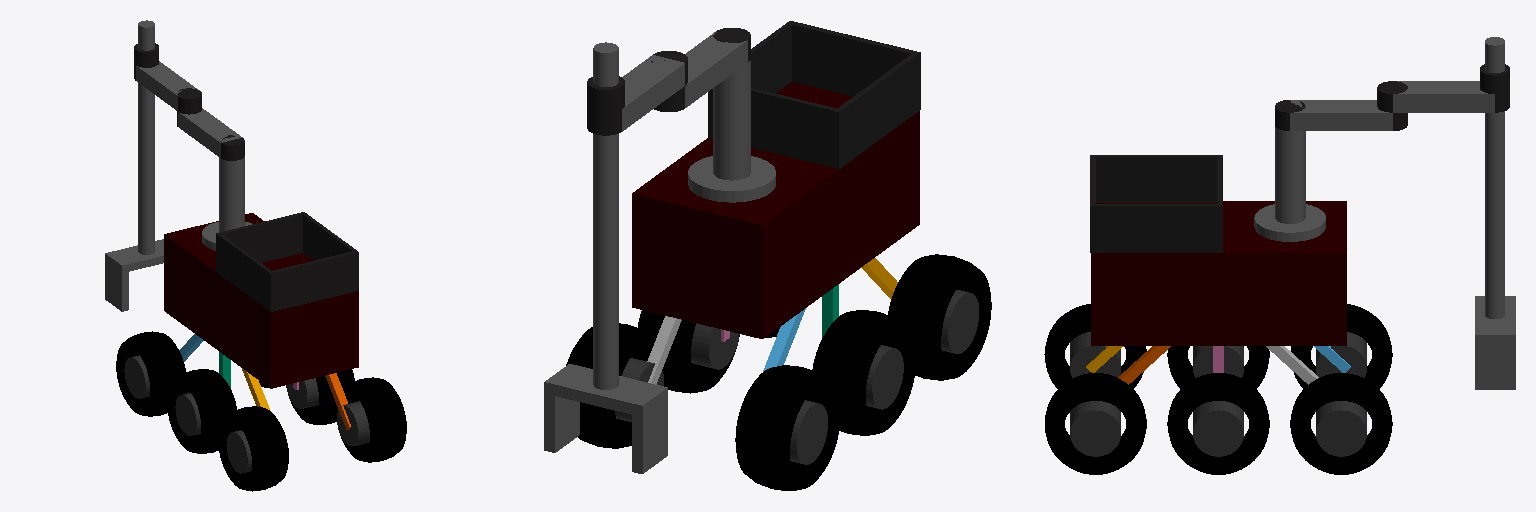
--- Facts derived from the render (not from the file) ---
3 views of the same robot in one strip: view 1: azimuth 30°, elevation 25°; view 2: azimuth 150°, elevation 25°; view 3: azimuth 270°, elevation 25° (orthographic).
Robot: unnamed — 38 links, 37 joints (3 revolute, 6 continuous, 3 prismatic, 25 fixed); root link base_footprint; default pose: every joint at zero.
Visible links, largest first — view 1: base_link, Rueda_I1_link, Rueda_D1_link, Rueda_i3_link, Rueda_I2_link, pared_trasera_link, Cilindro_verti_5_link, pared_delantera_link, pared_i_link, Cilindro_verti_1_link, pared_d_link, horizontal1_link (+11 smaller); view 2: base_link, Rueda_i3_link, Cilindro_verti_5_link, Rueda_I1_link, Rueda_I2_link, pared_trasera_link, pared_i_link, pared_delantera_link, Cilindro_verti_1_link, Rueda_D3_link, grip_link, horizontal2_link (+18 smaller); view 3: base_link, pared_d_link, pared_i_link, Rueda_D1_link, Rueda_D2_link, Rueda_D3_link, Cilindro_verti_5_link, horizontal2_link, horizontal1_link, Cilindro_verti_1_link, Cilindro_D2_link, Cilindro_D3_link (+15 smaller).
Boxes of the visible links, bbox=[...] form: base_link: bbox=[164, 213, 358, 388]; Rueda_I1_link: bbox=[218, 406, 288, 491]; Rueda_D1_link: bbox=[336, 377, 406, 462]; Rueda_i3_link: bbox=[116, 331, 185, 416]; Rueda_I2_link: bbox=[167, 369, 236, 453]; pared_trasera_link: bbox=[273, 251, 355, 310]; Cilindro_verti_5_link: bbox=[138, 20, 154, 254]; pared_delantera_link: bbox=[220, 213, 302, 262]; pared_i_link: bbox=[216, 232, 274, 311]; Cilindro_verti_1_link: bbox=[219, 156, 244, 231]; pared_d_link: bbox=[301, 212, 358, 290]; horizontal1_link: bbox=[178, 108, 242, 157]; base_link: bbox=[632, 82, 919, 338]; Rueda_i3_link: bbox=[735, 365, 839, 490]; Cilindro_verti_5_link: bbox=[593, 42, 618, 389]; Rueda_I1_link: bbox=[888, 254, 991, 380]; Rueda_I2_link: bbox=[812, 310, 915, 435]; pared_trasera_link: bbox=[792, 22, 914, 96]; pared_i_link: bbox=[834, 51, 920, 168]; pared_delantera_link: bbox=[751, 88, 836, 167]; Cilindro_verti_1_link: bbox=[713, 60, 750, 180]; Rueda_D3_link: bbox=[566, 323, 665, 448]; grip_link: bbox=[544, 364, 667, 416]; horizontal2_link: bbox=[622, 55, 684, 131]; base_link: bbox=[1091, 201, 1346, 345]; pared_d_link: bbox=[1090, 204, 1222, 252]; pared_i_link: bbox=[1090, 155, 1222, 202]; Rueda_D1_link: bbox=[1045, 373, 1146, 474]; Rueda_D2_link: bbox=[1167, 373, 1269, 474]; Rueda_D3_link: bbox=[1290, 373, 1392, 474]; Cilindro_verti_5_link: bbox=[1485, 37, 1504, 318]; horizontal2_link: bbox=[1393, 81, 1494, 112]; horizontal1_link: bbox=[1290, 100, 1392, 130]; Cilindro_verti_1_link: bbox=[1275, 127, 1305, 223]; Cilindro_D2_link: bbox=[1193, 401, 1243, 456]; Cilindro_D3_link: bbox=[1316, 401, 1366, 456].
Bounding box of the posed robot: 2.1 × 4.6 × 4.25 m (x, y, z).
Meshes: 27 distinct files referenced, 27 mesh visuals loaded (27 Collada DAE).

URDF robot description (unnamed):
<robot name="unnamed" version="1.0">
  <joint name="00_base_b_link_joint" type="fixed">
    <origin rpy="-0.00000 1.57080 0.00000" xyz="0.00000 0.70000 0.55000"/>
    <parent link="base_link"/>
    <child link="base_b_link"/>
  </joint>
  <joint name="01_Cilindro_verti_1_link_joint" type="fixed">
    <origin rpy="0.00000 -1.57080 0.00000" xyz="-0.55000 -0.00000 0.00000"/>
    <parent link="base_b_link"/>
    <child link="Cilindro_verti_1_link"/>
  </joint>
  <joint name="02_Cilindro_link_joint" type="revolute">
    <limit lower="-6.28000" upper="6.28000" effort="25.00000" velocity="0.00000"/>
    <origin rpy="0.00000 0.00000 0.00000" xyz="0.00000 -0.00000 0.60000"/>
    <parent link="Cilindro_verti_1_link"/>
    <child link="Cilindro_link"/>
    <axis xyz="0.00000 0.00000 1.00000"/>
  </joint>
  <joint name="03_horizontal1_link_joint" type="fixed">
    <origin rpy="0.00000 0.00000 0.00000" xyz="-0.00000 0.50000 0.00000"/>
    <parent link="Cilindro_link"/>
    <child link="horizontal1_link"/>
  </joint>
  <joint name="04_Cilindro_verti_3_link_joint" type="revolute">
    <limit lower="-2.15000" upper="2.15000" effort="25.00000" velocity="0.00000"/>
    <origin rpy="0.00000 0.00000 0.00000" xyz="0.00000 0.50000 0.10000"/>
    <parent link="horizontal1_link"/>
    <child link="Cilindro_verti_3_link"/>
    <axis xyz="0.00000 0.00000 1.00000"/>
  </joint>
  <joint name="05_horizontal2_link_joint" type="fixed">
    <origin rpy="0.00000 0.00000 0.00000" xyz="-0.00000 0.50000 0.10000"/>
    <parent link="Cilindro_verti_3_link"/>
    <child link="horizontal2_link"/>
  </joint>
  <joint name="06_Cilindro_verti_4_link_joint" type="fixed">
    <origin rpy="0.00000 0.00000 0.00000" xyz="0.00000 0.50000 0.10000"/>
    <parent link="horizontal2_link"/>
    <child link="Cilindro_verti_4_link"/>
  </joint>
  <joint name="07_Cilindro_verti_5_link_joint" type="prismatic">
    <limit lower="-2.00000" upper="2.50000" effort="25.00000" velocity="0.00000"/>
    <origin rpy="0.00000 0.00000 0.00000" xyz="0.00000 -0.01000 -1.00000"/>
    <parent link="Cilindro_verti_4_link"/>
    <child link="Cilindro_verti_5_link"/>
    <axis xyz="0.00000 0.00000 1.00000"/>
  </joint>
  <joint name="08_grip_link_joint" type="revolute">
    <limit lower="-1.57000" upper="1.57000" effort="25.00000" velocity="5.00000"/>
    <origin rpy="0.00000 0.00000 0.00000" xyz="-0.00000 0.01000 -1.50000"/>
    <parent link="Cilindro_verti_5_link"/>
    <child link="grip_link"/>
    <axis xyz="0.00000 0.00000 1.00000"/>
  </joint>
  <joint name="09_grip_d_link_joint" type="prismatic">
    <limit lower="-0.11000" upper="0.00000" effort="25.00000" velocity="5.00000"/>
    <origin rpy="0.00000 1.57080 0.00000" xyz="0.40000 0.00000 -0.30000"/>
    <parent link="grip_link"/>
    <child link="grip_d_link"/>
    <axis xyz="0.00000 0.00000 1.00000"/>
  </joint>
  <joint name="09_grip_i_link_joint" type="prismatic">
    <limit lower="-0.11000" upper="0.00000" effort="25.00000" velocity="0.00000"/>
    <origin rpy="0.00000 -1.57080 0.00000" xyz="-0.40000 0.00000 -0.30000"/>
    <parent link="grip_link"/>
    <child link="grip_i_link"/>
    <axis xyz="0.00000 0.00000 1.00000"/>
  </joint>
  <joint name="Camara_frontal_link_joint" type="fixed">
    <origin rpy="0.00000 0.00000 0.00000" xyz="0.00000 1.35000 0.50000"/>
    <parent link="base_link"/>
    <child link="Camara_frontal_link"/>
  </joint>
  <joint name="Camara_grip_link_joint" type="fixed">
    <origin rpy="0.00000 0.00000 0.00000" xyz="0.00000 2.70000 -0.55000"/>
    <parent link="base_link"/>
    <child link="Camara_grip_link"/>
  </joint>
  <joint name="Cilindro_D1_link_joint" type="fixed">
    <origin rpy="1.57080 0.78540 -1.57080" xyz="0.25000 0.03536 -0.60104"/>
    <parent link="Cubo_d1_link"/>
    <child link="Cilindro_D1_link"/>
  </joint>
  <joint name="Cilindro_D2_link_joint" type="fixed">
    <origin rpy="1.57080 0.00000 -1.57080" xyz="0.25000 0.00000 -0.55000"/>
    <parent link="Cubo_d2_link"/>
    <child link="Cilindro_D2_link"/>
  </joint>
  <joint name="Cilindro_D3_link_joint" type="fixed">
    <origin rpy="1.57080 -0.78540 -1.57080" xyz="0.25000 -0.03536 -0.60104"/>
    <parent link="Cubo_d3_link"/>
    <child link="Cilindro_D3_link"/>
  </joint>
  <joint name="Cilindro_i1_link_joint" type="fixed">
    <origin rpy="1.57080 -0.78540 1.57080" xyz="-0.25000 0.03536 -0.60104"/>
    <parent link="Cubo_i1_link"/>
    <child link="Cilindro_i1_link"/>
  </joint>
  <joint name="Cilindro_i2_link_joint" type="fixed">
    <origin rpy="1.57080 -0.00000 1.57080" xyz="-0.25000 0.00000 -0.55000"/>
    <parent link="Cubo_i3_link"/>
    <child link="Cilindro_i2_link"/>
  </joint>
  <joint name="Cilindro_i3_link_joint" type="fixed">
    <origin rpy="1.57080 0.78540 1.57080" xyz="-0.25000 -0.03536 -0.60104"/>
    <parent link="Cubo_i2_link"/>
    <child link="Cilindro_i3_link"/>
  </joint>
  <joint name="Cubo_d1_link_joint" type="fixed">
    <origin rpy="-0.78540 0.00000 0.00000" xyz="0.50000 -0.80000 -0.80000"/>
    <parent link="base_link"/>
    <child link="Cubo_d1_link"/>
  </joint>
  <joint name="Cubo_d2_link_joint" type="fixed">
    <origin rpy="0.78540 0.00000 0.00000" xyz="0.50000 0.80000 -0.80000"/>
    <parent link="base_link"/>
    <child link="Cubo_d3_link"/>
  </joint>
  <joint name="Cubo_d3_link_joint" type="fixed">
    <origin rpy="0.00000 0.00000 0.00000" xyz="0.50000 0.00000 -0.70000"/>
    <parent link="base_link"/>
    <child link="Cubo_d2_link"/>
  </joint>
  <joint name="Cubo_i1_link_joint" type="fixed">
    <origin rpy="-0.78540 0.00000 0.00000" xyz="-0.50000 -0.80000 -0.80000"/>
    <parent link="base_link"/>
    <child link="Cubo_i1_link"/>
  </joint>
  <joint name="Cubo_i2_link_joint" type="fixed">
    <origin rpy="0.78540 0.00000 0.00000" xyz="-0.50000 0.80000 -0.80000"/>
    <parent link="base_link"/>
    <child link="Cubo_i2_link"/>
  </joint>
  <joint name="Cubo_i3_link_joint" type="fixed">
    <origin rpy="0.00000 0.00000 0.00000" xyz="-0.50000 0.00000 -0.70000"/>
    <parent link="base_link"/>
    <child link="Cubo_i3_link"/>
  </joint>
  <joint name="Rueda_D1_link_joint" type="continuous">
    <limit lower="0" upper="0" effort="25.00000" velocity="5.00000"/>
    <origin rpy="3.14159 0.00000 3.14159" xyz="-0.00000 0.00000 -0.05000"/>
    <parent link="Cilindro_D1_link"/>
    <child link="Rueda_D1_link"/>
    <axis xyz="0.00000 0.00000 1.00000"/>
  </joint>
  <joint name="Rueda_D2_link_joint" type="continuous">
    <limit lower="0" upper="0" effort="25.00000" velocity="5.00000"/>
    <origin rpy="3.14159 0.00000 -3.14159" xyz="-0.00000 -0.00000 -0.05000"/>
    <parent link="Cilindro_D2_link"/>
    <child link="Rueda_D2_link"/>
    <axis xyz="0.00000 0.00000 1.00000"/>
  </joint>
  <joint name="Rueda_D3_link_joint" type="continuous">
    <limit lower="0" upper="0" effort="25.00000" velocity="5.00000"/>
    <origin rpy="3.14159 0.00000 3.14159" xyz="0.00000 -0.00000 -0.05000"/>
    <parent link="Cilindro_D3_link"/>
    <child link="Rueda_D3_link"/>
    <axis xyz="0.00000 0.00000 1.00000"/>
  </joint>
  <joint name="Rueda_I1_link_joint" type="continuous">
    <limit lower="0" upper="0" effort="25.00000" velocity="5.00000"/>
    <origin rpy="3.14159 -0.00000 -3.14159" xyz="0.00000 -0.00000 -0.05000"/>
    <parent link="Cilindro_i1_link"/>
    <child link="Rueda_I1_link"/>
    <axis xyz="0.00000 0.00000 1.00000"/>
  </joint>
  <joint name="Rueda_I2_link_joint" type="continuous">
    <limit lower="0" upper="0" effort="25.00000" velocity="5.00000"/>
    <origin rpy="3.14159 -0.00000 -3.14159" xyz="-0.00000 -0.00000 -0.05000"/>
    <parent link="Cilindro_i2_link"/>
    <child link="Rueda_I2_link"/>
    <axis xyz="0.00000 0.00000 1.00000"/>
  </joint>
  <joint name="Rueda_i3_link_joint" type="continuous">
    <limit lower="0" upper="0" effort="25.00000" velocity="5.00000"/>
    <origin rpy="3.14159 -0.00000 -3.14159" xyz="-0.00000 -0.00000 -0.05000"/>
    <parent link="Cilindro_i3_link"/>
    <child link="Rueda_i3_link"/>
    <axis xyz="0.00000 0.00000 1.00000"/>
  </joint>
  <joint name="Sensor_link_joint" type="fixed">
    <origin rpy="0.00000 0.00000 0.00000" xyz="0.00000 0.00000 -0.00000"/>
    <parent link="base_link"/>
    <child link="Sensor_link"/>
  </joint>
  <joint name="base_link_joint" type="fixed">
    <origin rpy="0.00000 0.00000 0.00000" xyz="0.00000 0.00000 0.00000"/>
    <parent link="base_footprint"/>
    <child link="base_link"/>
  </joint>
  <joint name="pared_d_link_joint" type="fixed">
    <origin rpy="0.00000 -1.57080 0.00000" xyz="0.57500 -0.61000 0.75000"/>
    <parent link="base_link"/>
    <child link="pared_d_link"/>
  </joint>
  <joint name="pared_delantera_link_joint" type="fixed">
    <origin rpy="1.57080 -1.57080 0.00000" xyz="0.00000 0.01000 0.75000"/>
    <parent link="base_link"/>
    <child link="pared_delantera_link"/>
  </joint>
  <joint name="pared_i_link_joint" type="fixed">
    <origin rpy="-0.00000 1.57080 0.00000" xyz="-0.57500 -0.61000 0.75000"/>
    <parent link="base_link"/>
    <child link="pared_i_link"/>
  </joint>
  <joint name="pared_trasera_link_joint" type="fixed">
    <origin rpy="-1.57080 1.57080 0.00000" xyz="0.00000 -1.23000 0.75000"/>
    <parent link="base_link"/>
    <child link="pared_trasera_link"/>
  </joint>
  <link name="Camara_frontal_link"/>
  <link name="Camara_grip_link"/>
  <link name="Cilindro_D1_link">
    <collision name="Cilindro_D1_collision">
      <origin rpy="3.14159 -0.00000 -3.14159" xyz="0.00000 0.00000 -0.00000"/>
      <geometry>
        <mesh filename="../meshes/dae/Cilindro.006.dae" scale="0.25000 0.25000 0.27500"/>
      </geometry>
    </collision>
    <inertial>
      <inertia ixx="0.00100" ixy="0.00000" ixz="0.00000" iyy="0.00100" iyz="0.00000" izz="0.00100"/>
      <origin rpy="0.00000 0.00000 0.00000" xyz="0.00000 0.00000 0.00000"/>
      <mass value="2.00000"/>
    </inertial>
    <visual name="Cilindro_D1">
      <origin rpy="3.14159 0.00000 3.14159" xyz="-0.00000 0.00000 0.00000"/>
      <material name="Material.008"/>
      <geometry>
        <mesh filename="../meshes/dae/Cilindro.006.dae" scale="0.25000 0.25000 0.27500"/>
      </geometry>
    </visual>
  </link>
  <link name="Cilindro_D2_link">
    <collision name="Cilindro_D2_collision">
      <origin rpy="3.14159 0.00000 3.14159" xyz="0.00000 -0.00000 0.00000"/>
      <geometry>
        <mesh filename="../meshes/dae/Cilindro.005.dae" scale="0.25000 0.25000 0.27500"/>
      </geometry>
    </collision>
    <inertial>
      <inertia ixx="0.00100" ixy="0.00000" ixz="-0.00000" iyy="0.00100" iyz="0.00000" izz="0.00100"/>
      <origin rpy="0.00000 0.00000 0.00000" xyz="-0.00000 0.00000 0.00000"/>
      <mass value="2.00000"/>
    </inertial>
    <visual name="Cilindro_D2">
      <origin rpy="3.14159 0.00000 -3.14159" xyz="-0.00000 -0.00000 0.00000"/>
      <material name="Material.008"/>
      <geometry>
        <mesh filename="../meshes/dae/Cilindro.005.dae" scale="0.25000 0.25000 0.27500"/>
      </geometry>
    </visual>
  </link>
  <link name="Cilindro_D3_link">
    <collision name="Cilindro_D3_collision">
      <origin rpy="3.14159 -0.00000 -3.14159" xyz="-0.00000 0.00000 -0.00000"/>
      <geometry>
        <mesh filename="../meshes/dae/Cilindro.001.dae" scale="0.25000 0.25000 0.27500"/>
      </geometry>
    </collision>
    <inertial>
      <inertia ixx="0.00100" ixy="0.00000" ixz="0.00000" iyy="0.00100" iyz="0.00000" izz="0.00100"/>
      <origin rpy="0.00000 0.00000 0.00000" xyz="-0.00000 0.00000 0.00000"/>
      <mass value="2.00000"/>
    </inertial>
    <visual name="Cilindro_D3">
      <origin rpy="3.14159 0.00000 3.14159" xyz="-0.00000 0.00000 0.00000"/>
      <material name="Material.008"/>
      <geometry>
        <mesh filename="../meshes/dae/Cilindro.001.dae" scale="0.25000 0.25000 0.27500"/>
      </geometry>
    </visual>
  </link>
  <link name="Cilindro_i1_link">
    <collision name="Cilindro_i1_collision">
      <origin rpy="-0.00000 -0.00000 -0.00000" xyz="-0.00000 -0.00000 -0.00000"/>
      <geometry>
        <mesh filename="../meshes/dae/Cilindro.004.dae" scale="0.25000 0.25000 0.27500"/>
      </geometry>
    </collision>
    <inertial>
      <inertia ixx="0.00100" ixy="-0.00000" ixz="-0.00000" iyy="0.00100" iyz="-0.00000" izz="0.00100"/>
      <origin rpy="0.00000 0.00000 0.00000" xyz="0.00000 0.00000 0.00000"/>
      <mass value="2.00000"/>
    </inertial>
    <visual name="Cilindro_i1">
      <origin rpy="0.00000 0.00000 -0.00000" xyz="-0.00000 0.00000 -0.00000"/>
      <material name="Material.008"/>
      <geometry>
        <mesh filename="../meshes/dae/Cilindro.004.dae" scale="0.25000 0.25000 0.27500"/>
      </geometry>
    </visual>
  </link>
  <link name="Cilindro_i2_link">
    <collision name="Cilindro_i2_collision">
      <origin rpy="0.00000 0.00000 -0.00000" xyz="-0.00000 -0.00000 0.00000"/>
      <geometry>
        <mesh filename="../meshes/dae/Cilindro.002.dae" scale="0.25000 0.25000 0.27500"/>
      </geometry>
    </collision>
    <inertial>
      <inertia ixx="0.00100" ixy="-0.00000" ixz="0.00000" iyy="0.00100" iyz="0.00000" izz="0.00100"/>
      <origin rpy="0.00000 0.00000 0.00000" xyz="-0.00000 0.00000 0.00000"/>
      <mass value="2.00000"/>
    </inertial>
    <visual name="Cilindro_i2">
      <origin rpy="0.00000 0.00000 0.00000" xyz="-0.00000 -0.00000 0.00000"/>
      <material name="Material.008"/>
      <geometry>
        <mesh filename="../meshes/dae/Cilindro.002.dae" scale="0.25000 0.25000 0.27500"/>
      </geometry>
    </visual>
  </link>
  <link name="Cilindro_i3_link">
    <collision name="Cilindro_i3_collision">
      <origin rpy="0.00000 0.00000 0.00000" xyz="0.00000 0.00000 -0.00000"/>
      <geometry>
        <mesh filename="../meshes/dae/Cilindro.003.dae" scale="0.25000 0.25000 0.27500"/>
      </geometry>
    </collision>
    <inertial>
      <inertia ixx="0.00100" ixy="-0.00000" ixz="-0.00000" iyy="0.00100" iyz="0.00000" izz="0.00100"/>
      <origin rpy="0.00000 0.00000 0.00000" xyz="0.00000 0.00000 0.00000"/>
      <mass value="2.00000"/>
    </inertial>
    <visual name="Cilindro_i3">
      <origin rpy="-0.00000 -0.00000 0.00000" xyz="0.00000 0.00000 0.00000"/>
      <material name="Material.008"/>
      <geometry>
        <mesh filename="../meshes/dae/Cilindro.003.dae" scale="0.25000 0.25000 0.27500"/>
      </geometry>
    </visual>
  </link>
  <link name="Cilindro_link">
    <collision name="Cilindro_collision">
      <origin rpy="0.00000 -0.00000 0.00000" xyz="-0.00000 -0.00000 0.00000"/>
      <geometry>
        <mesh filename="../meshes/dae/Cilindro.008.dae" scale="0.15000 0.15000 0.10000"/>
      </geometry>
    </collision>
    <inertial>
      <inertia ixx="0.00223" ixy="0.00000" ixz="-0.00000" iyy="0.00223" iyz="0.00000" izz="0.00279"/>
      <origin rpy="0.00000 0.00000 0.00000" xyz="-0.00000 0.00000 -0.00000"/>
      <mass value="0.25000"/>
    </inertial>
    <visual name="Cilindro">
      <origin rpy="0.00000 0.00000 0.00000" xyz="-0.00000 -0.00000 0.00000"/>
      <material name="Material"/>
      <geometry>
        <mesh filename="../meshes/dae/Cilindro.008.dae" scale="0.15000 0.15000 0.10000"/>
      </geometry>
    </visual>
  </link>
  <link name="Cilindro_verti_1_link">
    <inertial>
      <inertia ixx="0.08892" ixy="0.00000" ixz="-0.00000" iyy="0.08892" iyz="-0.00000" izz="0.01118"/>
      <origin rpy="0.00000 0.00000 0.00000" xyz="-0.00000 0.00000 0.00000"/>
      <mass value="1.00000"/>
    </inertial>
    <visual name="Cilindro_verti_1">
      <origin rpy="0.00000 0.00000 0.00000" xyz="-0.00000 -0.00000 -0.00000"/>
      <material name="Material.001"/>
      <geometry>
        <mesh filename="../meshes/dae/Cilindro.007.dae" scale="0.15000 0.15000 0.50000"/>
      </geometry>
    </visual>
  </link>
  <link name="Cilindro_verti_3_link">
    <collision name="Cilindro_verti_3_collision">
      <origin rpy="0.00000 0.00000 0.00000" xyz="0.00000 -0.00000 -0.00000"/>
      <geometry>
        <mesh filename="../meshes/dae/Cilindro.009.dae" scale="0.15000 0.15000 0.20000"/>
      </geometry>
    </collision>
    <inertial>
      <inertia ixx="0.00946" ixy="0.00000" ixz="-0.00000" iyy="0.00946" iyz="0.00000" izz="0.00559"/>
      <origin rpy="0.00000 0.00000 0.00000" xyz="-0.00000 0.00000 -0.00000"/>
      <mass value="0.50000"/>
    </inertial>
    <visual name="Cilindro_verti_3">
      <origin rpy="0.00000 0.00000 0.00000" xyz="0.00000 -0.00000 -0.00000"/>
      <material name="Material"/>
      <geometry>
        <mesh filename="../meshes/dae/Cilindro.009.dae" scale="0.15000 0.15000 0.20000"/>
      </geometry>
    </visual>
  </link>
  <link name="Cilindro_verti_4_link">
    <collision name="Cilindro_verti_4_collision">
      <origin rpy="0.00000 0.00000 0.00000" xyz="-0.00000 -0.00000 -0.00000"/>
      <geometry>
        <mesh filename="../meshes/dae/Cilindro.010.dae" scale="0.15000 0.15000 0.20000"/>
      </geometry>
    </collision>
    <inertial>
      <inertia ixx="0.00946" ixy="0.00000" ixz="-0.00000" iyy="0.00946" iyz="0.00000" izz="0.00559"/>
      <origin rpy="0.00000 0.00000 0.00000" xyz="-0.00000 -0.00000 -0.00000"/>
      <mass value="0.50000"/>
    </inertial>
    <visual name="Cilindro_verti_4">
      <origin rpy="0.00000 0.00000 0.00000" xyz="0.00000 -0.00000 -0.00000"/>
      <material name="Material"/>
      <geometry>
        <mesh filename="../meshes/dae/Cilindro.010.dae" scale="0.15000 0.15000 0.20000"/>
      </geometry>
    </visual>
  </link>
  <link name="Cilindro_verti_5_link">
    <collision name="Cilindro_verti_5_collision">
      <origin rpy="0.00000 0.00000 0.00000" xyz="-0.00000 0.01000 -0.00000"/>
      <geometry>
        <mesh filename="../meshes/dae/Cilindro.011.dae" scale="0.10000 0.10000 1.50000"/>
      </geometry>
    </collision>
    <inertial>
      <inertia ixx="1.12873" ixy="-0.00000" ixz="0.00000" iyy="1.12873" iyz="0.00000" izz="0.00745"/>
      <origin rpy="0.00000 0.00000 0.00000" xyz="0.00000 0.01000 0.00000"/>
      <mass value="1.50000"/>
    </inertial>
    <visual name="Cilindro_verti_5">
      <origin rpy="0.00000 0.00000 0.00000" xyz="0.00000 0.01000 -0.00000"/>
      <material name="Material.001"/>
      <geometry>
        <mesh filename="../meshes/dae/Cilindro.011.dae" scale="0.10000 0.10000 1.50000"/>
      </geometry>
    </visual>
  </link>
  <link name="Cubo_d1_link">
    <collision name="Dubo_d1_collision">
      <origin rpy="-0.00000 0.00000 0.00000" xyz="-0.00000 -0.00000 -0.00000"/>
      <geometry>
        <box size="0.10000 0.10000 1.30000"/>
      </geometry>
    </collision>
    <inertial>
      <inertia ixx="0.00100" ixy="0.00000" ixz="0.00000" iyy="0.00100" iyz="0.00000" izz="0.00100"/>
      <origin rpy="0.00000 0.00000 0.00000" xyz="0.00000 -0.00000 -0.00000"/>
      <mass value="2.00000"/>
    </inertial>
    <visual name="Dubo_d1">
      <origin rpy="-0.00000 0.00000 0.00000" xyz="0.00000 0.00000 -0.00000"/>
      <geometry>
        <mesh filename="../meshes/dae/Cubo.005.dae" scale="0.05000 0.05000 0.65000"/>
      </geometry>
    </visual>
  </link>
  <link name="Cubo_d2_link">
    <collision name="Cubo_d3_collision">
      <origin rpy="0.00000 0.00000 0.00000" xyz="0.00000 0.00000 -0.00000"/>
      <geometry>
        <box size="0.10000 0.10000 1.10000"/>
      </geometry>
    </collision>
    <inertial>
      <inertia ixx="0.00100" ixy="0.00000" ixz="0.00000" iyy="0.00100" iyz="0.00000" izz="0.00100"/>
      <origin rpy="0.00000 0.00000 0.00000" xyz="-0.00000 0.00000 0.00000"/>
      <mass value="2.00000"/>
    </inertial>
    <visual name="Cubo_d3">
      <origin rpy="0.00000 0.00000 0.00000" xyz="0.00000 0.00000 -0.00000"/>
      <geometry>
        <mesh filename="../meshes/dae/Cubo.004.dae" scale="0.05000 0.05000 0.55000"/>
      </geometry>
    </visual>
  </link>
  <link name="Cubo_d3_link">
    <collision name="Cubo_d2_collision">
      <origin rpy="0.00000 0.00000 0.00000" xyz="-0.00000 0.00000 -0.00000"/>
      <geometry>
        <box size="0.10000 0.10000 1.30000"/>
      </geometry>
    </collision>
    <inertial>
      <inertia ixx="0.00100" ixy="0.00000" ixz="0.00000" iyy="0.00100" iyz="0.00000" izz="0.00100"/>
      <origin rpy="0.00000 0.00000 0.00000" xyz="0.00000 0.00000 -0.00000"/>
      <mass value="2.00000"/>
    </inertial>
    <visual name="Cubo_d2">
      <origin rpy="0.00000 0.00000 0.00000" xyz="0.00000 -0.00000 -0.00000"/>
      <geometry>
        <mesh filename="../meshes/dae/Cubo.003.dae" scale="0.05000 0.05000 0.65000"/>
      </geometry>
    </visual>
  </link>
  <link name="Cubo_i1_link">
    <collision name="Cubo_i1_collision">
      <origin rpy="-0.00000 0.00000 0.00000" xyz="0.00000 -0.00000 -0.00000"/>
      <geometry>
        <box size="0.10000 0.10000 1.30000"/>
      </geometry>
    </collision>
    <visual name="Cubo_i1">
      <origin rpy="-0.00000 0.00000 0.00000" xyz="0.00000 0.00000 -0.00000"/>
      <geometry>
        <mesh filename="../meshes/dae/Cubo.dae" scale="0.05000 0.05000 0.65000"/>
      </geometry>
    </visual>
  </link>
  <link name="Cubo_i2_link">
    <collision name="Cubo_i2_collision">
      <origin rpy="-0.00000 0.00000 0.00000" xyz="-0.00000 0.00000 -0.00000"/>
      <geometry>
        <mesh filename="../meshes/dae/Cubo.001.dae" scale="0.05000 0.05000 0.65000"/>
      </geometry>
    </collision>
    <visual name="Cubo_i2">
      <origin rpy="0.00000 0.00000 0.00000" xyz="0.00000 -0.00000 -0.00000"/>
      <geometry>
        <mesh filename="../meshes/dae/Cubo.001.dae" scale="0.05000 0.05000 0.65000"/>
      </geometry>
    </visual>
  </link>
  <link name="Cubo_i3_link">
    <collision name="Cubo_i3_collision">
      <origin rpy="0.00000 0.00000 0.00000" xyz="-0.00000 0.00000 -0.00000"/>
      <geometry>
        <mesh filename="../meshes/dae/Cubo.002.dae" scale="0.05000 0.05000 0.55000"/>
      </geometry>
    </collision>
    <visual name="Cubo_i3">
      <origin rpy="0.00000 0.00000 0.00000" xyz="-0.00000 0.00000 -0.00000"/>
      <geometry>
        <mesh filename="../meshes/dae/Cubo.002.dae" scale="0.05000 0.05000 0.55000"/>
      </geometry>
    </visual>
  </link>
  <link name="Rueda_D1_link">
    <collision name="Rueda_D1_collision">
      <origin rpy="0.00000 0.00000 -0.00000" xyz="-0.00000 0.00000 0.00000"/>
      <geometry>
        <mesh filename="../meshes/dae/Rosca.dae" scale="0.40000 0.40000 1.00000"/>
      </geometry>
    </collision>
    <visual name="Rueda_D1">
      <origin rpy="-0.00000 -0.00000 0.00000" xyz="-0.00000 0.00000 0.00000"/>
      <material name="Material.007"/>
      <geometry>
        <mesh filename="../meshes/dae/Rosca.dae" scale="0.40000 0.40000 1.00000"/>
      </geometry>
    </visual>
  </link>
  <link name="Rueda_D2_link">
    <collision name="Rueda_D2_collision">
      <origin rpy="0.00000 0.00000 0.00000" xyz="0.00000 -0.00000 0.00000"/>
      <geometry>
        <mesh filename="../meshes/dae/Rosca.005.dae" scale="0.40000 0.40000 1.00000"/>
      </geometry>
    </collision>
    <visual name="Rueda_D2">
      <origin rpy="-0.00000 -0.00000 0.00000" xyz="-0.00000 -0.00000 -0.00000"/>
      <material name="Material.007"/>
      <geometry>
        <mesh filename="../meshes/dae/Rosca.005.dae" scale="0.40000 0.40000 1.00000"/>
      </geometry>
    </visual>
  </link>
  <link name="Rueda_D3_link">
    <collision name="Rueda_D3_collision">
      <origin rpy="0.00000 0.00000 0.00000" xyz="0.00000 0.00000 0.00000"/>
      <geometry>
        <mesh filename="../meshes/dae/Rosca.001.dae" scale="0.40000 0.40000 1.00000"/>
      </geometry>
    </collision>
    <visual name="Rueda_D3">
      <origin rpy="0.00000 0.00000 0.00000" xyz="0.00000 0.00000 0.00000"/>
      <material name="Material.007"/>
      <geometry>
        <mesh filename="../meshes/dae/Rosca.001.dae" scale="0.40000 0.40000 1.00000"/>
      </geometry>
    </visual>
  </link>
  <link name="Rueda_I1_link">
    <collision name="Rueda_I1_collision">
      <origin rpy="3.14159 0.00000 -3.14159" xyz="0.00000 0.00000 0.00000"/>
      <geometry>
        <mesh filename="../meshes/dae/Rosca.004.dae" scale="0.40000 0.40000 1.00000"/>
      </geometry>
    </collision>
    <visual name="Rueda_I1">
      <origin rpy="3.14159 0.00000 -3.14159" xyz="0.00000 0.00000 0.00000"/>
      <material name="Material.007"/>
      <geometry>
        <mesh filename="../meshes/dae/Rosca.004.dae" scale="0.40000 0.40000 1.00000"/>
      </geometry>
    </visual>
  </link>
  <link name="Rueda_I2_link">
    <collision name="Rueda_I2_collision">
      <origin rpy="3.14159 0.00000 -3.14159" xyz="-0.00000 -0.00000 0.00000"/>
      <geometry>
        <mesh filename="../meshes/dae/Rosca.003.dae" scale="0.40000 0.40000 1.00000"/>
      </geometry>
    </collision>
    <visual name="Rueda_I2">
      <origin rpy="3.14159 0.00000 3.14159" xyz="0.00000 0.00000 -0.00000"/>
      <material name="Material.007"/>
      <geometry>
        <mesh filename="../meshes/dae/Rosca.003.dae" scale="0.40000 0.40000 1.00000"/>
      </geometry>
    </visual>
  </link>
  <link name="Rueda_i3_link">
    <collision name="Rueda_i3_collision">
      <origin rpy="3.14159 -0.00000 3.14159" xyz="-0.00000 0.00000 0.00000"/>
      <geometry>
        <mesh filename="../meshes/dae/Rosca.002.dae" scale="0.40000 0.40000 1.00000"/>
      </geometry>
    </collision>
    <visual name="Rueda_i3">
      <origin rpy="3.14159 0.00000 3.14159" xyz="0.00000 0.00000 0.00000"/>
      <material name="Material.007"/>
      <geometry>
        <mesh filename="../meshes/dae/Rosca.002.dae" scale="0.40000 0.40000 1.00000"/>
      </geometry>
    </visual>
  </link>
  <link name="Sensor_link"/>
  <link name="base_b_link">
    <collision name="base_b_collision">
      <origin rpy="0.00000 -1.57080 0.00000" xyz="0.00000 -0.00000 0.00000"/>
      <geometry>
        <mesh filename="../meshes/dae/Cilindro.dae" scale="0.35000 0.35000 0.05000"/>
      </geometry>
    </collision>
    <inertial>
      <inertia ixx="0.03126" ixy="0.00000" ixz="0.00000" iyy="0.03126" iyz="0.00000" izz="0.06086"/>
      <origin rpy="0.00000 0.00000 0.00000" xyz="0.00000 -0.00000 0.00000"/>
      <mass value="1.00000"/>
    </inertial>
    <visual name="base_b">
      <origin rpy="0.00000 -1.57080 0.00000" xyz="0.00000 -0.00000 0.00000"/>
      <material name="Material.001"/>
      <geometry>
        <mesh filename="../meshes/dae/Cilindro.dae" scale="0.35000 0.35000 0.05000"/>
      </geometry>
    </visual>
  </link>
  <link name="base_footprint"/>
  <link name="base_link">
    <collision name="Cube_collision">
      <origin rpy="0.00000 0.00000 0.00000" xyz="0.00000 0.00000 0.00000"/>
      <geometry>
        <box size="1.20000 2.50000 1.00000"/>
      </geometry>
    </collision>
    <inertial>
      <inertia ixx="18.12500" ixy="-0.00000" ixz="0.00000" iyy="6.10000" iyz="0.00000" izz="19.22500"/>
      <origin rpy="0.00000 0.00000 0.00000" xyz="0.00000 0.00000 0.00000"/>
      <mass value="30.00000"/>
    </inertial>
    <visual name="Cube">
      <origin rpy="0.00000 0.00000 0.00000" xyz="0.00000 0.00000 0.00000"/>
      <material name="Material.002"/>
      <geometry>
        <mesh filename="../meshes/dae/Cube.dae" scale="0.60000 1.25000 0.50000"/>
      </geometry>
    </visual>
  </link>
  <link name="grip_d_link">
    <collision name="grip_d_collision">
      <origin rpy="0.00000 -0.00000 0.00000" xyz="0.00000 0.00000 0.00000"/>
      <geometry>
        <box size="0.50000 0.40000 0.10000"/>
      </geometry>
    </collision>
    <inertial>
      <inertia ixx="0.01708" ixy="0.00000" ixz="-0.00000" iyy="0.01083" iyz="0.00000" izz="0.00708"/>
      <origin rpy="0.00000 0.00000 0.00000" xyz="0.00000 -0.00000 0.00000"/>
      <mass value="0.50000"/>
    </inertial>
    <visual name="grip_d">
      <origin rpy="0.00000 0.00000 0.00000" xyz="0.00000 -0.00000 0.00000"/>
      <material name="Material.001"/>
      <geometry>
        <box size="0.50000 0.40000 0.10000"/>
      </geometry>
    </visual>
  </link>
  <link name="grip_i_link">
    <collision name="grip_i_collision">
      <origin rpy="3.14159 0.00000 3.14159" xyz="0.00000 0.00000 0.00000"/>
      <geometry>
        <box size="0.50000 0.40000 0.10000"/>
      </geometry>
    </collision>
    <inertial>
      <inertia ixx="0.01708" ixy="0.00000" ixz="0.00000" iyy="0.01083" iyz="0.00000" izz="0.00708"/>
      <origin rpy="0.00000 0.00000 0.00000" xyz="0.00000 -0.00000 0.00000"/>
      <mass value="0.50000"/>
    </inertial>
    <visual name="grip_i">
      <origin rpy="3.14159 0.00000 3.14159" xyz="-0.00000 -0.00000 -0.00000"/>
      <material name="Material.001"/>
      <geometry>
        <box size="0.50000 0.40000 0.10000"/>
      </geometry>
    </visual>
  </link>
  <link name="grip_link">
    <collision name="grip_collision">
      <origin rpy="0.00000 0.00000 0.00000" xyz="-0.00000 0.00000 0.00000"/>
      <geometry>
        <box size="0.90000 0.40000 0.10000"/>
      </geometry>
    </collision>
    <inertial>
      <inertia ixx="0.00708" ixy="0.00000" ixz="0.00000" iyy="0.03417" iyz="0.00000" izz="0.04042"/>
      <origin rpy="0.00000 0.00000 0.00000" xyz="-0.00000 0.00000 0.00000"/>
      <mass value="0.50000"/>
    </inertial>
    <visual name="grip">
      <origin rpy="0.00000 0.00000 0.00000" xyz="0.00000 -0.00000 0.00000"/>
      <material name="Material.001"/>
      <geometry>
        <box size="0.90000 0.40000 0.10000"/>
      </geometry>
    </visual>
  </link>
  <link name="horizontal1_link">
    <collision name="horizontal1_collision">
      <origin rpy="0.00000 0.00000 0.00000" xyz="0.00000 -0.00000 -0.00000"/>
      <geometry>
        <mesh filename="../meshes/dae/Cubo.020.dae" scale="0.15000 0.50000 0.10000"/>
      </geometry>
    </collision>
    <inertial>
      <inertia ixx="0.08667" ixy="0.00000" ixz="0.00000" iyy="0.01083" iyz="0.00000" izz="0.09083"/>
      <origin rpy="0.00000 0.00000 0.00000" xyz="0.00000 -0.00000 -0.00000"/>
      <mass value="1.00000"/>
    </inertial>
    <visual name="horizontal1">
      <origin rpy="0.00000 0.00000 0.00000" xyz="0.00000 -0.00000 -0.00000"/>
      <material name="Material.001"/>
      <geometry>
        <mesh filename="../meshes/dae/Cubo.020.dae" scale="0.15000 0.50000 0.10000"/>
      </geometry>
    </visual>
  </link>
  <link name="horizontal2_link">
    <collision name="horizontal2_collision">
      <origin rpy="0.00000 0.00000 0.00000" xyz="0.00000 0.00000 -0.00000"/>
      <geometry>
        <mesh filename="../meshes/dae/Cubo.021.dae" scale="0.15000 0.50000 0.10000"/>
      </geometry>
    </collision>
    <inertial>
      <inertia ixx="0.08667" ixy="0.00000" ixz="0.00000" iyy="0.01083" iyz="0.00000" izz="0.09083"/>
      <origin rpy="0.00000 0.00000 0.00000" xyz="-0.00000 0.00000 -0.00000"/>
      <mass value="1.00000"/>
    </inertial>
    <visual name="horizontal2">
      <origin rpy="0.00000 0.00000 0.00000" xyz="-0.00000 -0.00000 0.00000"/>
      <material name="Material.001"/>
      <geometry>
        <mesh filename="../meshes/dae/Cubo.021.dae" scale="0.15000 0.50000 0.10000"/>
      </geometry>
    </visual>
  </link>
  <link name="pared_d_link">
    <collision name="pared_d_collision">
      <origin rpy="-0.00000 1.57080 0.00000" xyz="-0.00000 -0.00000 0.00000"/>
      <geometry>
        <box size="0.05000 1.30000 0.50000"/>
      </geometry>
    </collision>
    <visual name="pared_d">
      <origin rpy="-0.00000 1.57080 0.00000" xyz="-0.00000 0.00000 -0.00000"/>
      <material name="Material"/>
      <geometry>
        <box size="0.05000 1.30000 0.50000"/>
      </geometry>
    </visual>
  </link>
  <link name="pared_delantera_link">
    <collision name="pared_delantera_collision">
      <origin rpy="1.92225 1.57080 1.92225" xyz="-0.00000 -0.00000 0.00000"/>
      <geometry>
        <box size="0.05000 1.10000 0.50000"/>
      </geometry>
    </collision>
    <visual name="pared_delantera">
      <origin rpy="1.92225 1.57080 1.92225" xyz="-0.00000 -0.00000 0.00000"/>
      <material name="Material"/>
      <geometry>
        <box size="0.05000 1.10000 0.50000"/>
      </geometry>
    </visual>
  </link>
  <link name="pared_i_link">
    <collision name="pared_i_collision">
      <origin rpy="0.00000 -1.57080 0.00000" xyz="0.00000 -0.00000 0.00000"/>
      <geometry>
        <box size="0.05000 1.30000 0.50000"/>
      </geometry>
    </collision>
    <visual name="pared_i">
      <origin rpy="0.00000 -1.57080 0.00000" xyz="-0.00000 -0.00000 -0.00000"/>
      <material name="Material"/>
      <geometry>
        <box size="0.05000 1.30000 0.50000"/>
      </geometry>
    </visual>
  </link>
  <link name="pared_trasera_link">
    <collision name="pared_trasera_collision">
      <origin rpy="-1.57080 -1.57080 1.57080" xyz="0.00000 -0.00000 0.00000"/>
      <geometry>
        <box size="0.06000 1.10000 0.50000"/>
      </geometry>
    </collision>
    <visual name="pared_trasera">
      <origin rpy="-1.57080 -1.57080 1.57080" xyz="0.00000 0.00000 -0.00000"/>
      <material name="Material"/>
      <geometry>
        <box size="0.06000 1.10000 0.50000"/>
      </geometry>
    </visual>
  </link>
  <material name="Material">
    <color rgba="0.14118 0.13333 0.13725 1.00000"/>
  </material>
  <material name="Material.001">
    <color rgba="0.37255 0.37255 0.37255 1.00000"/>
  </material>
  <material name="Material.002">
    <color rgba="0.18824 0.00000 0.00392 1.00000"/>
  </material>
  <material name="Material.007">
    <color rgba="0.00000 0.00000 0.00000 1.00000"/>
  </material>
  <material name="Material.008">
    <color rgba="0.23922 0.23922 0.23922 1.00000"/>
  </material>
</robot>
